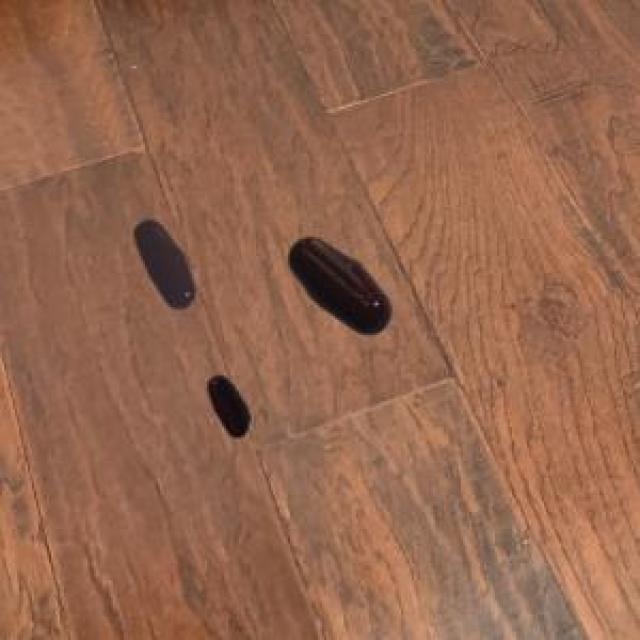DayZinc: (275, 215, 411, 349), (123, 208, 209, 320), (197, 356, 264, 454)
